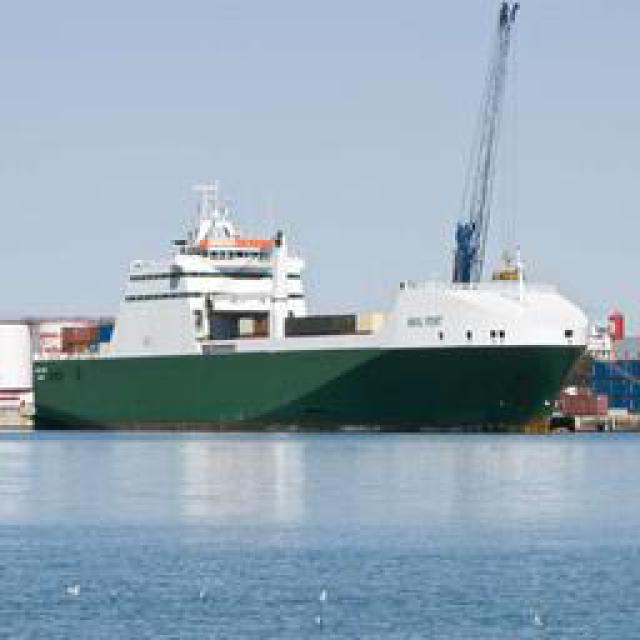Ship: (55, 165, 583, 428)
